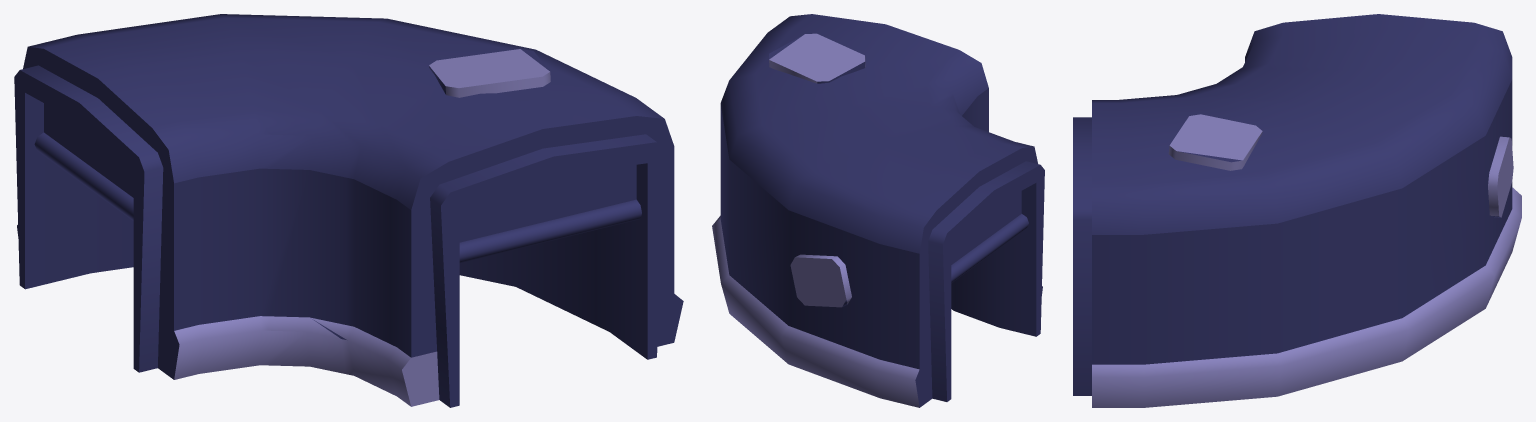
Rendered from MachineCorner.glb.
3 renders of one model, left to right at view 1: azimuth 30°, elevation 25°; view 2: azimuth 150°, elevation 25°; view 3: azimuth 270°, elevation 25°, orthographic. The views are drawn at different scales.
Parts seen in each view (by area): view 1: machine-bed, machine-bed.001; view 2: machine-bed, machine-bed.001; view 3: machine-bed, machine-bed.001.
Boxes of the visible parts, <box> form: machine-bed: <box>14,14,683,407</box>; machine-bed.001: <box>174,49,550,406</box>; machine-bed: <box>720,14,1044,407</box>; machine-bed.001: <box>712,33,919,407</box>; machine-bed: <box>1073,14,1512,395</box>; machine-bed.001: <box>1092,114,1521,407</box>.
Size of the model in its own units: 2.35 by 1.3 by 2.35.
